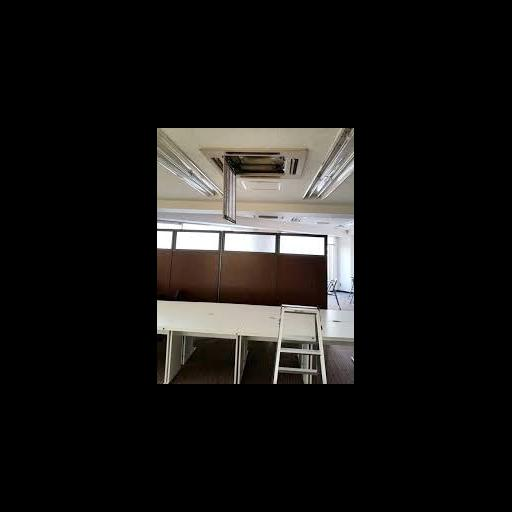4-way-ac: (198, 146, 310, 184)
